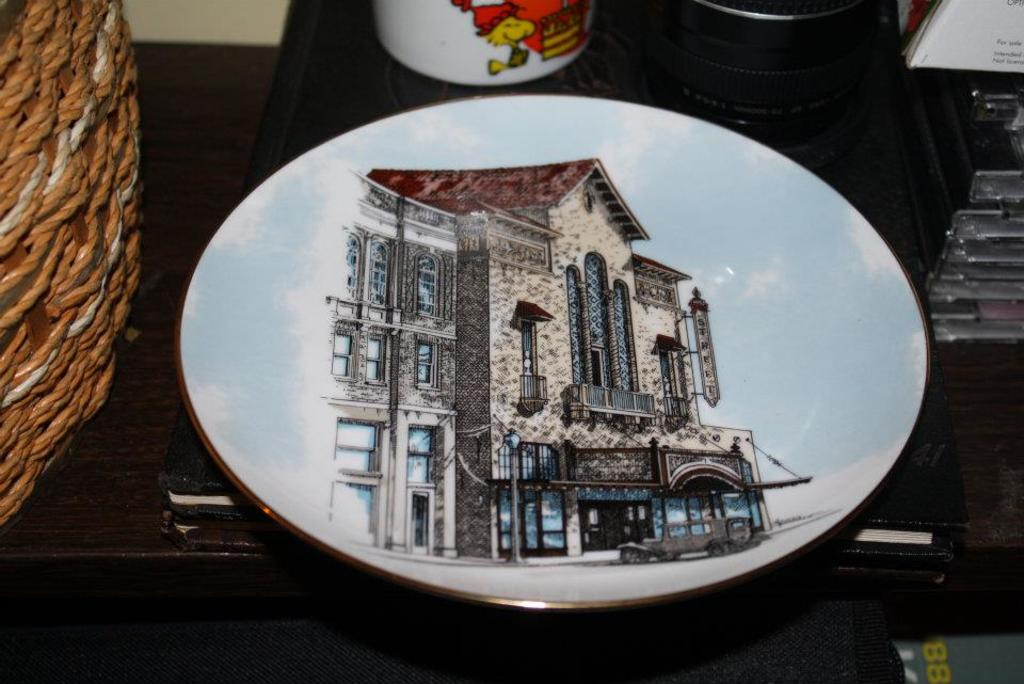plate: (170, 92, 929, 613)
